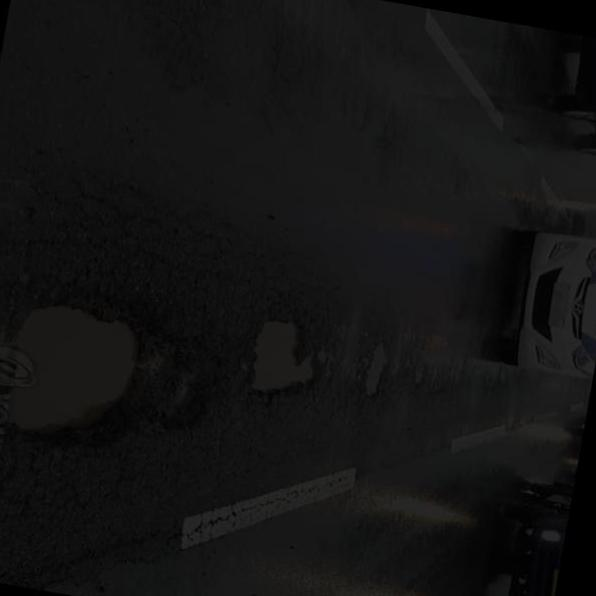pothole: (0, 263, 168, 497), (231, 301, 332, 431), (348, 328, 405, 408)
